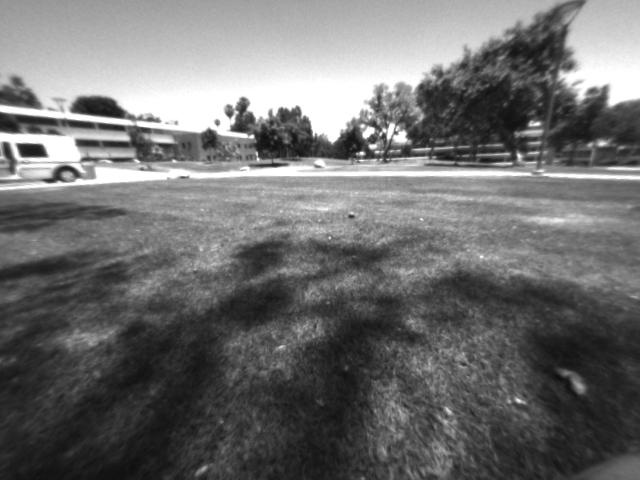dogtoy: (340, 204, 372, 232)
